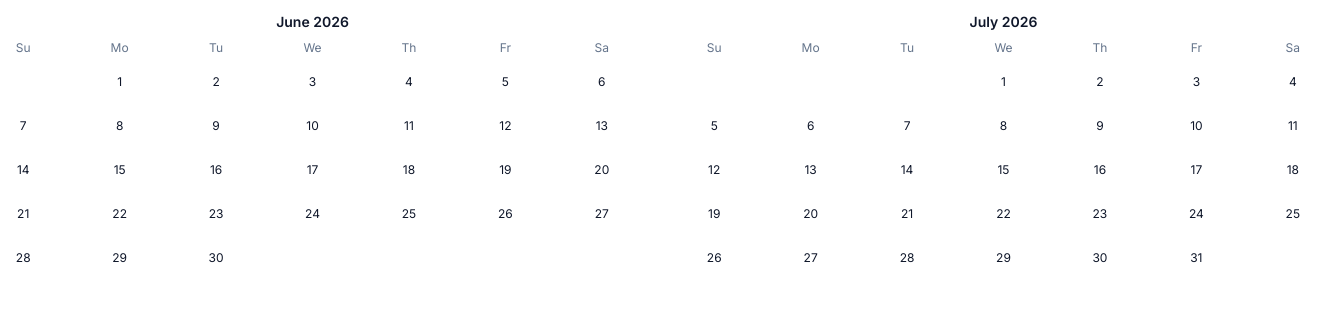
Scenario: InlineCalendarCard — start date selection (AC2) › clicking a date highlights start date and shows Nights: — counter
What coordinates should you click on to do the following:
click the cell named "Monday, June 15, 2026"
I would click on:
 (120, 170)
Its box is [71,148,168,192].
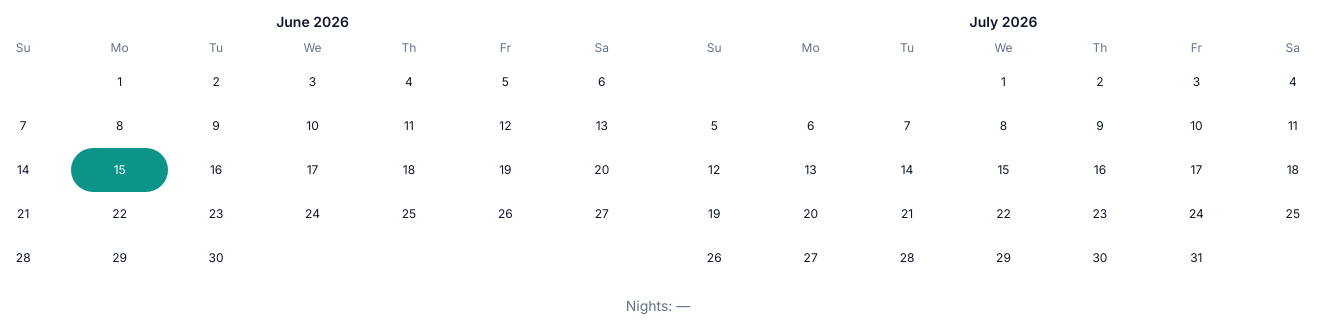
Now the text "Nights: —" is shown, box [626,297,690,314]
